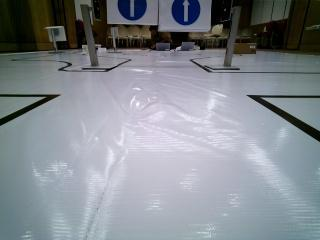straight: (160, 0, 211, 29), (107, 0, 158, 24)
